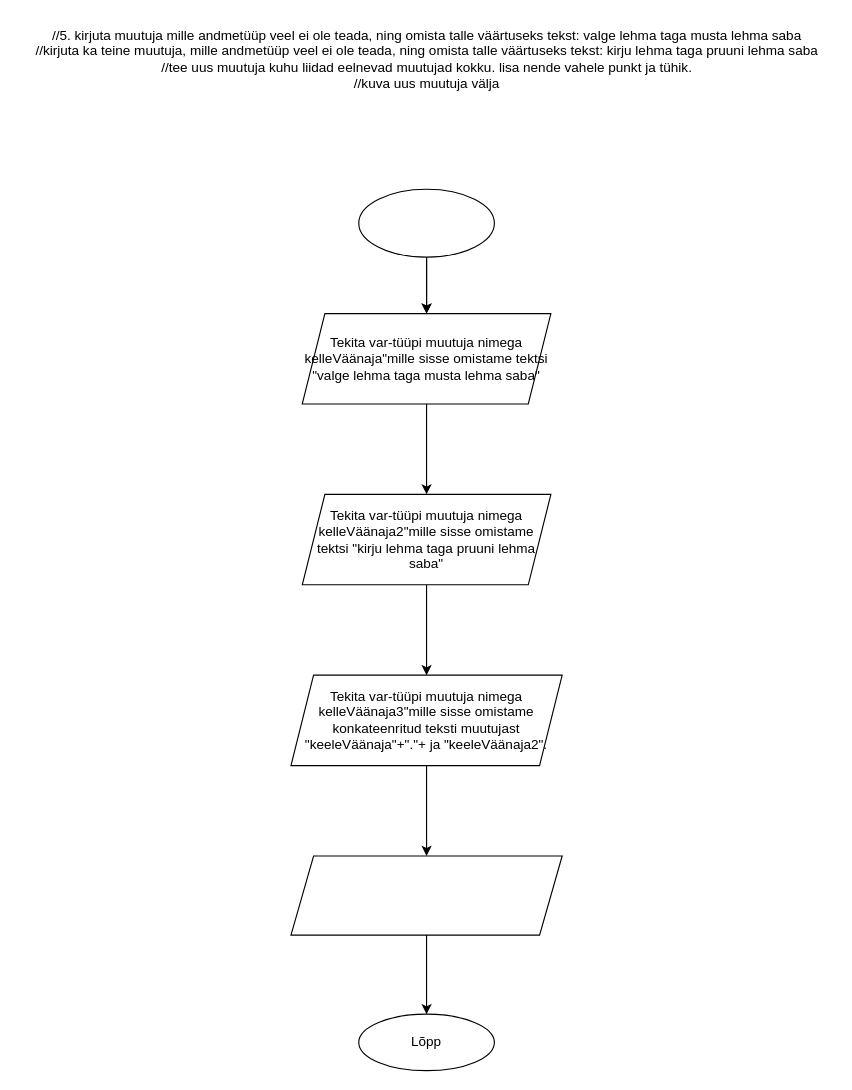
The diagram is 852 pixels wide and 1090 high, and some of its shapes have lost their labels. Here are the shapes that lost their labels. From the top down, the centre of each, then its label:
(426,222): Algus
(426,895): kuva kasutajale muutuja "keeleVäänaja3" välja.
